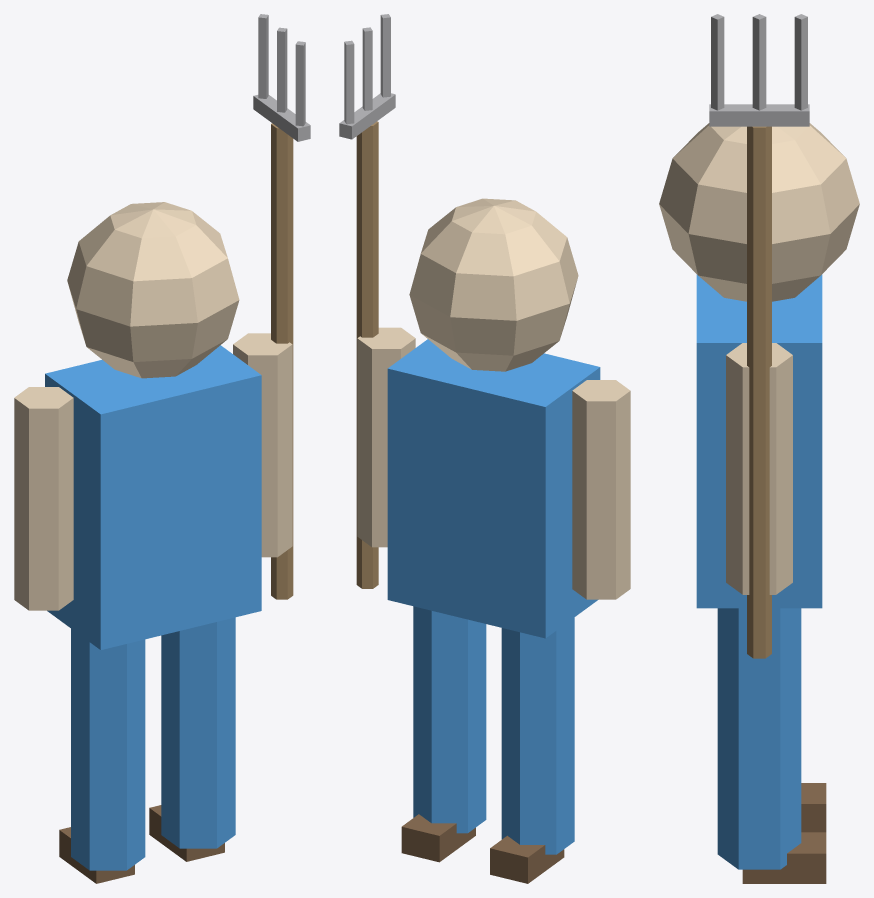
The model's file is worker_blue.glb.
3 views of the same model, side by side, from view 1: azimuth 30°, elevation 25°; view 2: azimuth 150°, elevation 25°; view 3: azimuth 270°, elevation 25° (orthographic). The views are drawn at different scales.
Visible parts, largest first — view 1: Worker_blue; view 2: Worker_blue; view 3: Worker_blue.
Part boxes in pixels (left/top/right/bottom): Worker_blue: left=14, top=14, right=310, bottom=883; Worker_blue: left=339, top=14, right=630, bottom=883; Worker_blue: left=659, top=14, right=859, bottom=883.
Size of the model in its own units: 0.4176 by 1.19 by 0.24.
